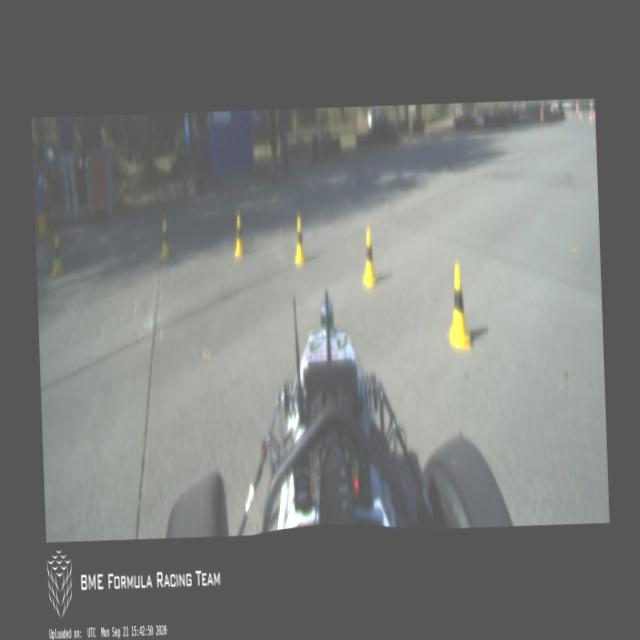yellow_cone: (446, 260, 472, 352), (360, 228, 378, 289), (292, 214, 306, 267), (232, 214, 246, 260), (50, 235, 64, 277), (158, 220, 170, 262)
